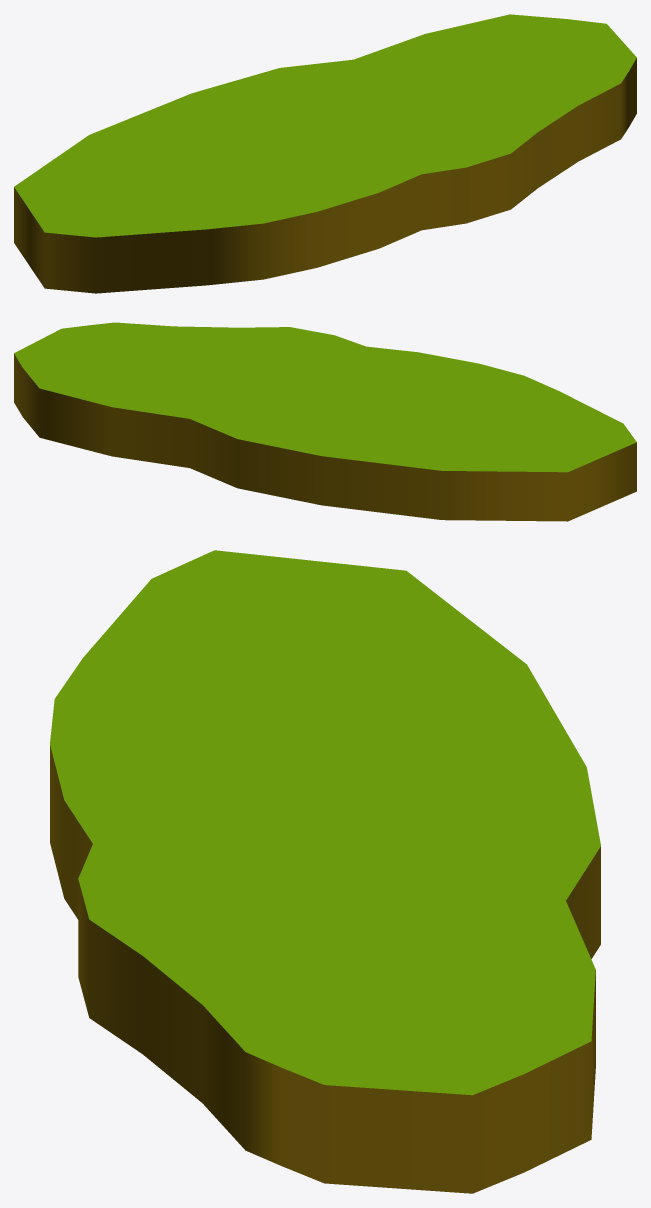
The model's file is SM_W_Addmass.fbx.
3 views of the same model, one above another, from view 1: azimuth 30°, elevation 25°; view 2: azimuth 150°, elevation 25°; view 3: azimuth 270°, elevation 25° (orthographic). The views are drawn at different scales.
Visible parts, largest first — view 1: Main_Landmass_06; view 2: Main_Landmass_06; view 3: Main_Landmass_06.
Boxes of the visible parts, x1,y1,x2,y2 form: Main_Landmass_06: [14, 14, 636, 293]; Main_Landmass_06: [14, 322, 636, 521]; Main_Landmass_06: [50, 550, 600, 1193].
Size of the model in its own units: 3158 by 266 by 1350.
